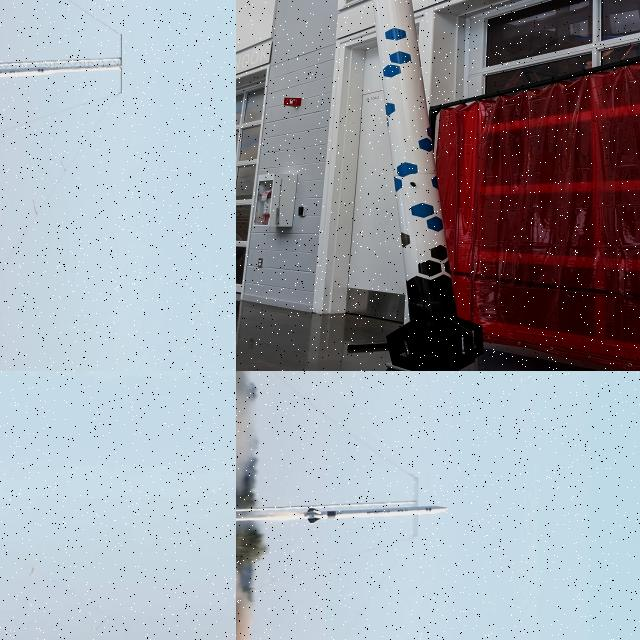Rocket: (371, 0, 484, 371), (304, 505, 448, 524), (0, 68, 57, 88)
